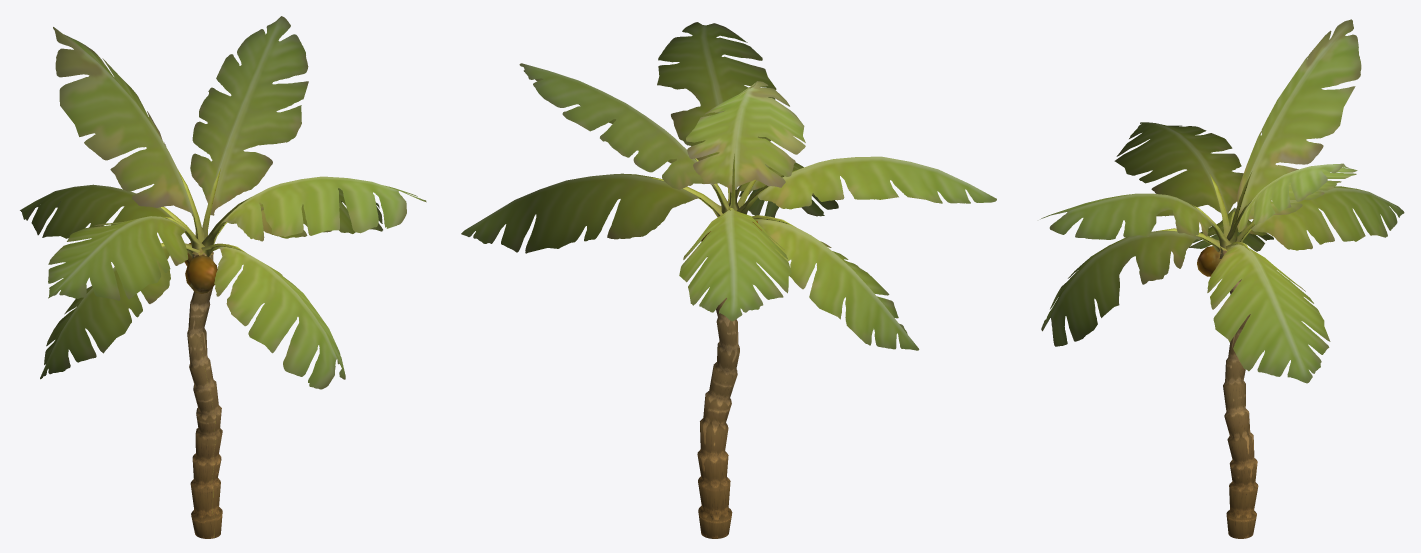
Rendered from coconut palm 04.obj.
3 renders of one model, left to right at view 1: azimuth 30°, elevation 25°; view 2: azimuth 150°, elevation 25°; view 3: azimuth 270°, elevation 25°, orthographic. The views are drawn at different scales.
Visible parts, largest first — view 1: tree; view 2: tree; view 3: tree.
Part boxes in pixels (x1=…): tree: x1=20, y1=16, x2=426, y2=538; tree: x1=461, y1=22, x2=996, y2=538; tree: x1=1040, y1=19, x2=1404, y2=538.
Size of the model in its own units: 373 by 416 by 300.
